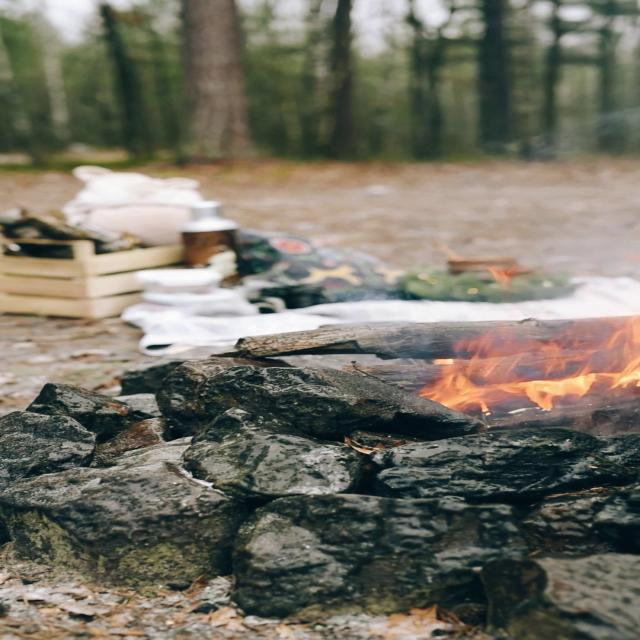Fire: (409, 255, 640, 418)
